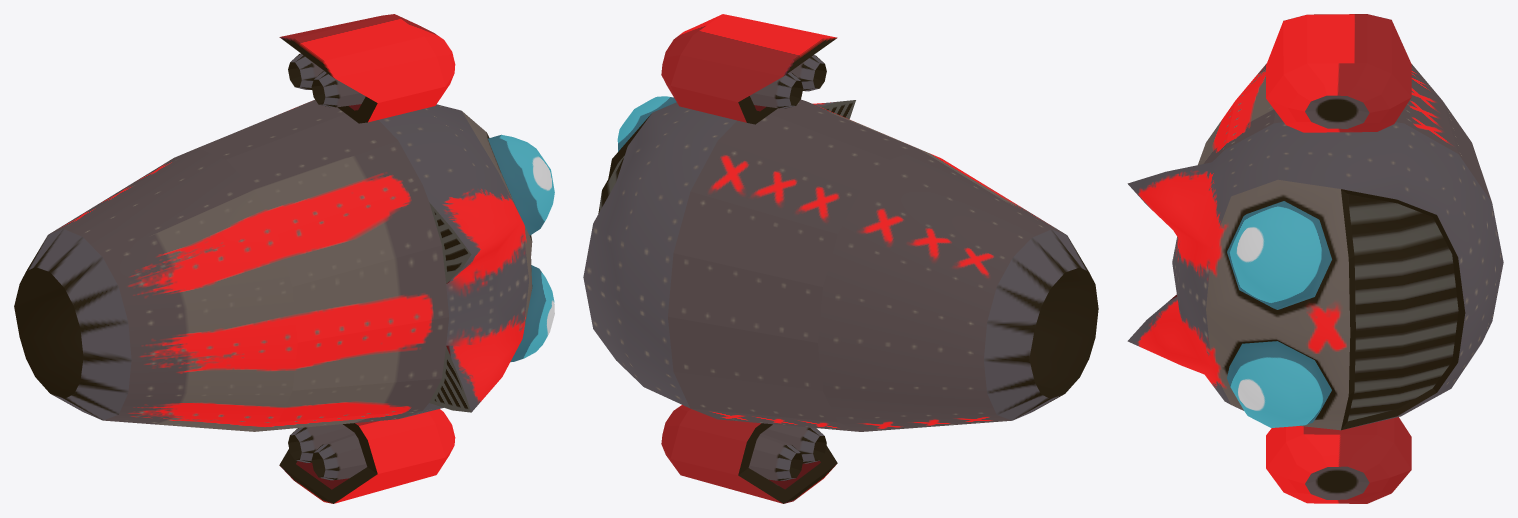
The model's file is ship-pirate.fbx.
The picture shows the model from 3 angles, left to right: view 1: azimuth 30°, elevation 25°; view 2: azimuth 150°, elevation 25°; view 3: azimuth 270°, elevation 25°; orthographic projection.
Visible parts, largest first — view 1: Pirate-Hull; view 2: Pirate-Hull; view 3: Pirate-Hull.
Boxes of the visible parts, <box> form: Pirate-Hull: <box>14,14,554,503</box>; Pirate-Hull: <box>583,14,1098,503</box>; Pirate-Hull: <box>1127,14,1503,503</box>.
Size of the model in its own units: 5.1 by 3.54 by 4.58.
